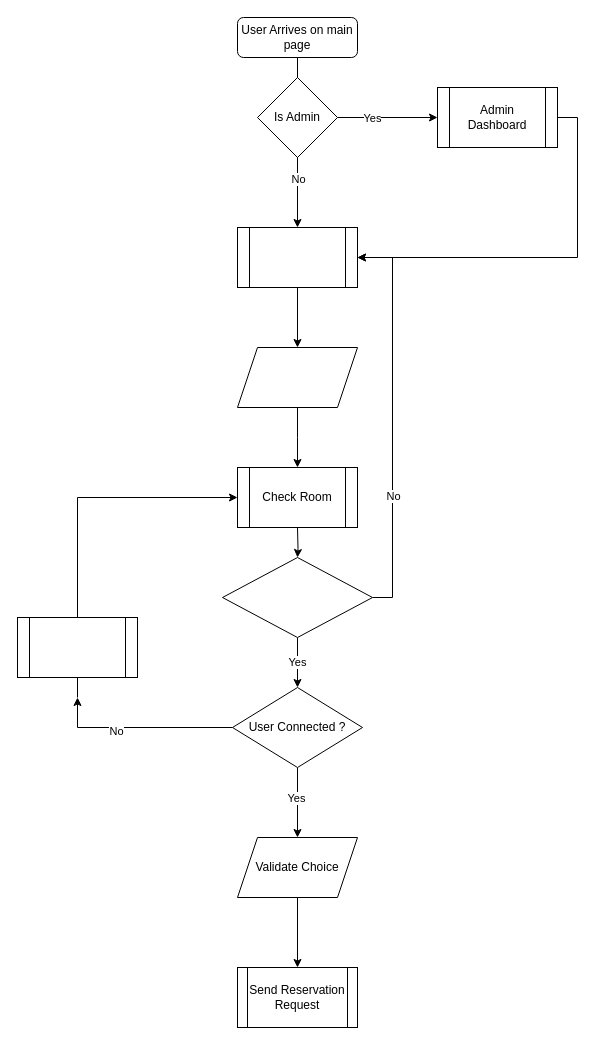
The diagram is 603 pixels wide and 1045 high, and some of its shapes have lost their labels. The shapes that lost their labels are listed below. From the top down, each one's centre as x and y in pixels, then its label:
At point 297,257: "Filters Research".
At point 297,377: "Click On Room".
At point 297,597: "Make Reservation ?".
At point 77,647: "Connect Popup".
